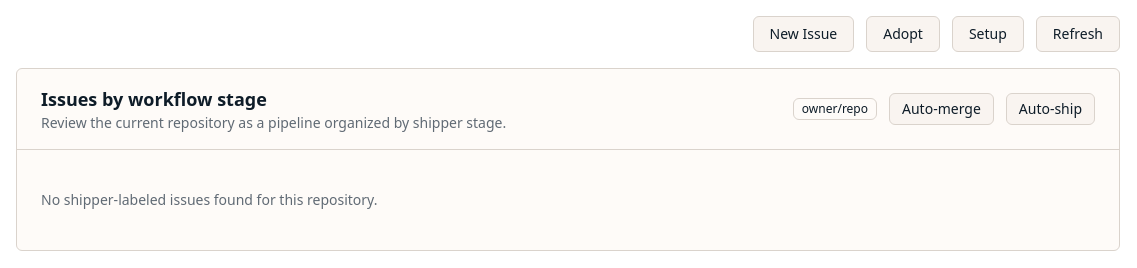
Test: App setup launch › deduplicates rapid Setup clicks while the first launch is still pending
This screenshot has width=1137, height=268.
Click the button "Setup". click: point(988, 34)
box: [952,16,1024,52]
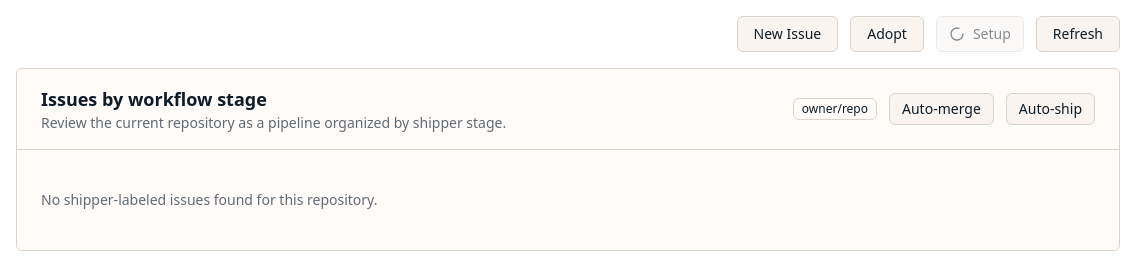
Check: the button "Setup" is disabled
Click the button "Setup". click: point(980, 34)
box: [936,16,1024,52]
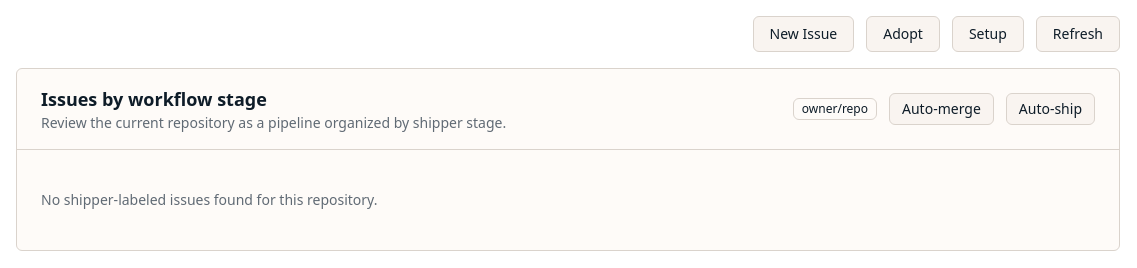
Check: the button "Setup" is enabled, box [952,16,1024,52]
